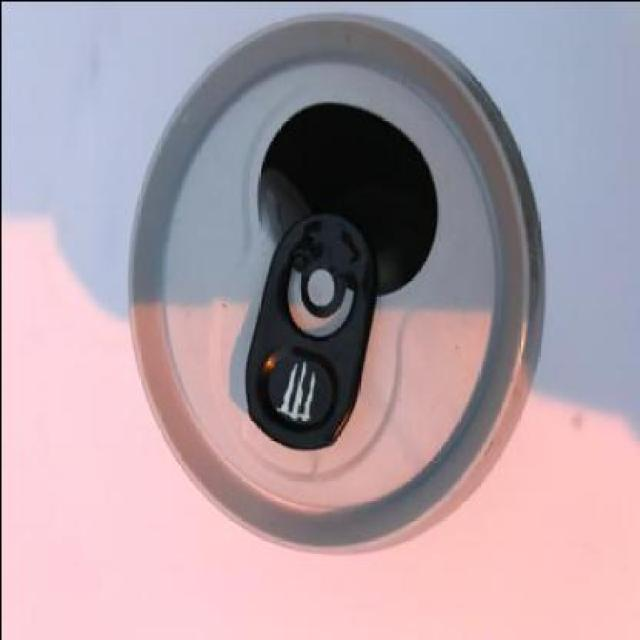METAL: (125, 30, 546, 556)
